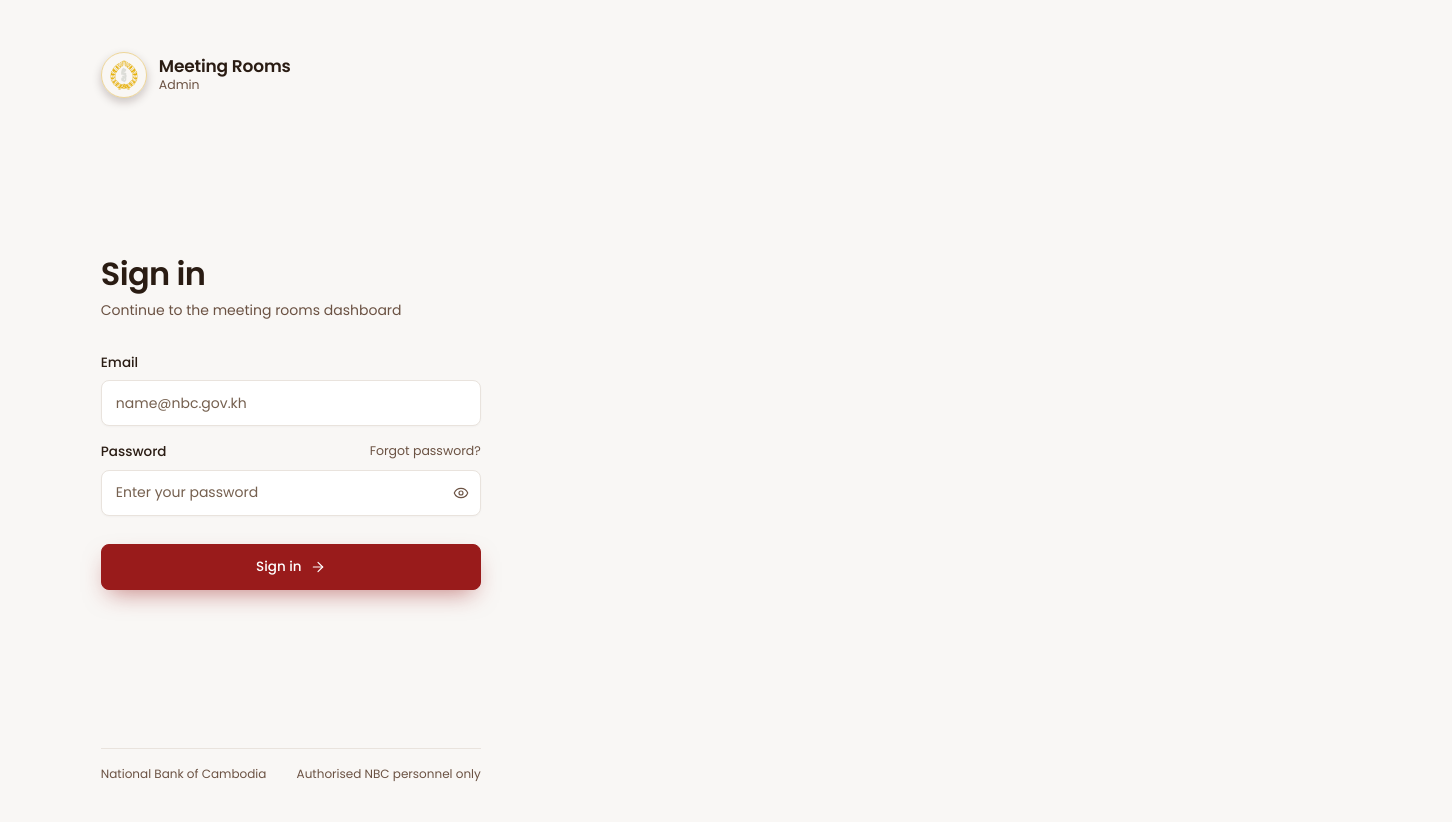
it: SignInView › shows the API message on wrong credentials and keeps the email
Type "admin@company.com" into the field with id "email" at (291, 403), box [101, 380, 481, 426]
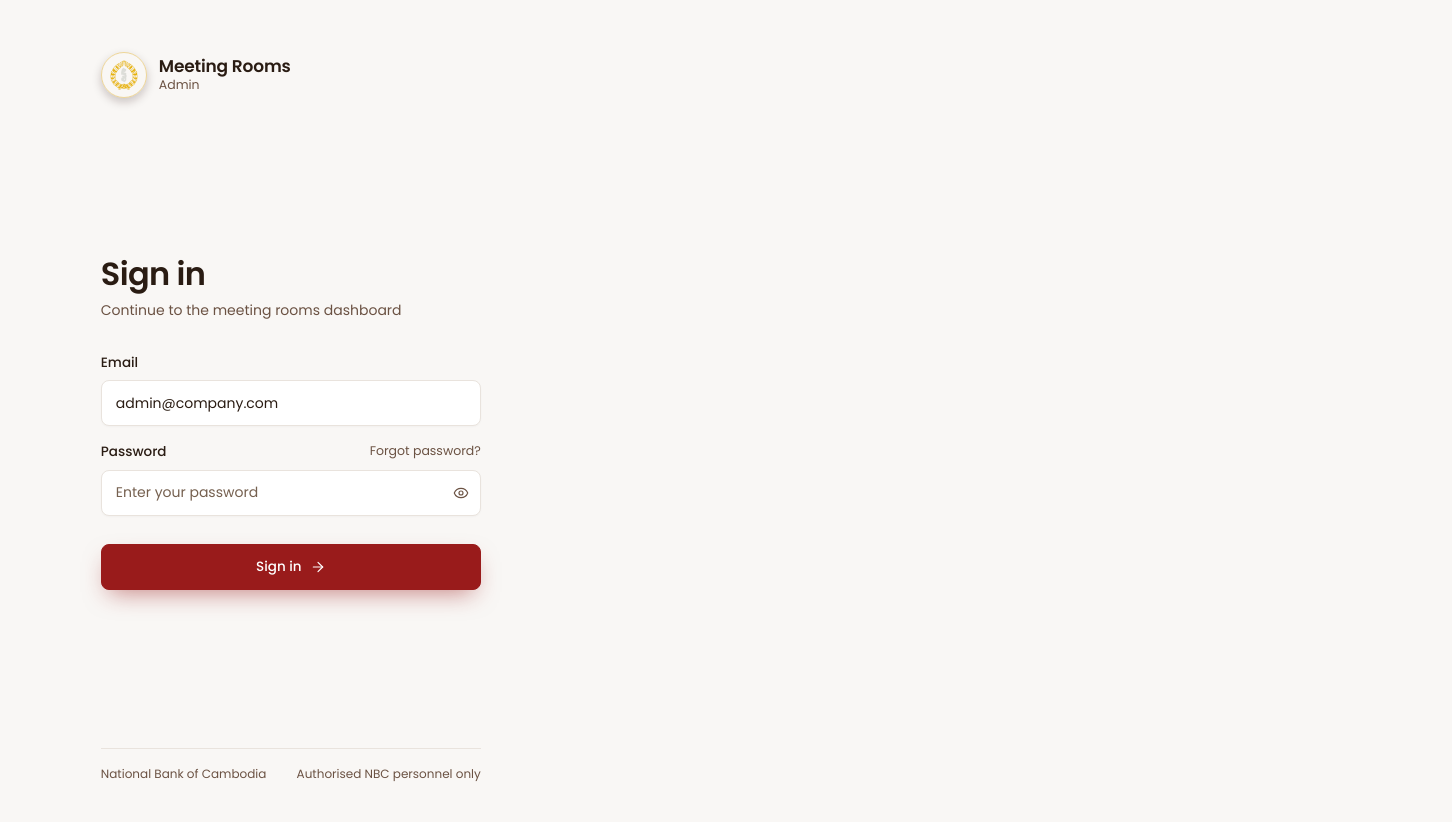
Type "bad" into the password field labelled "Password" at (291, 493), box [101, 470, 481, 516]
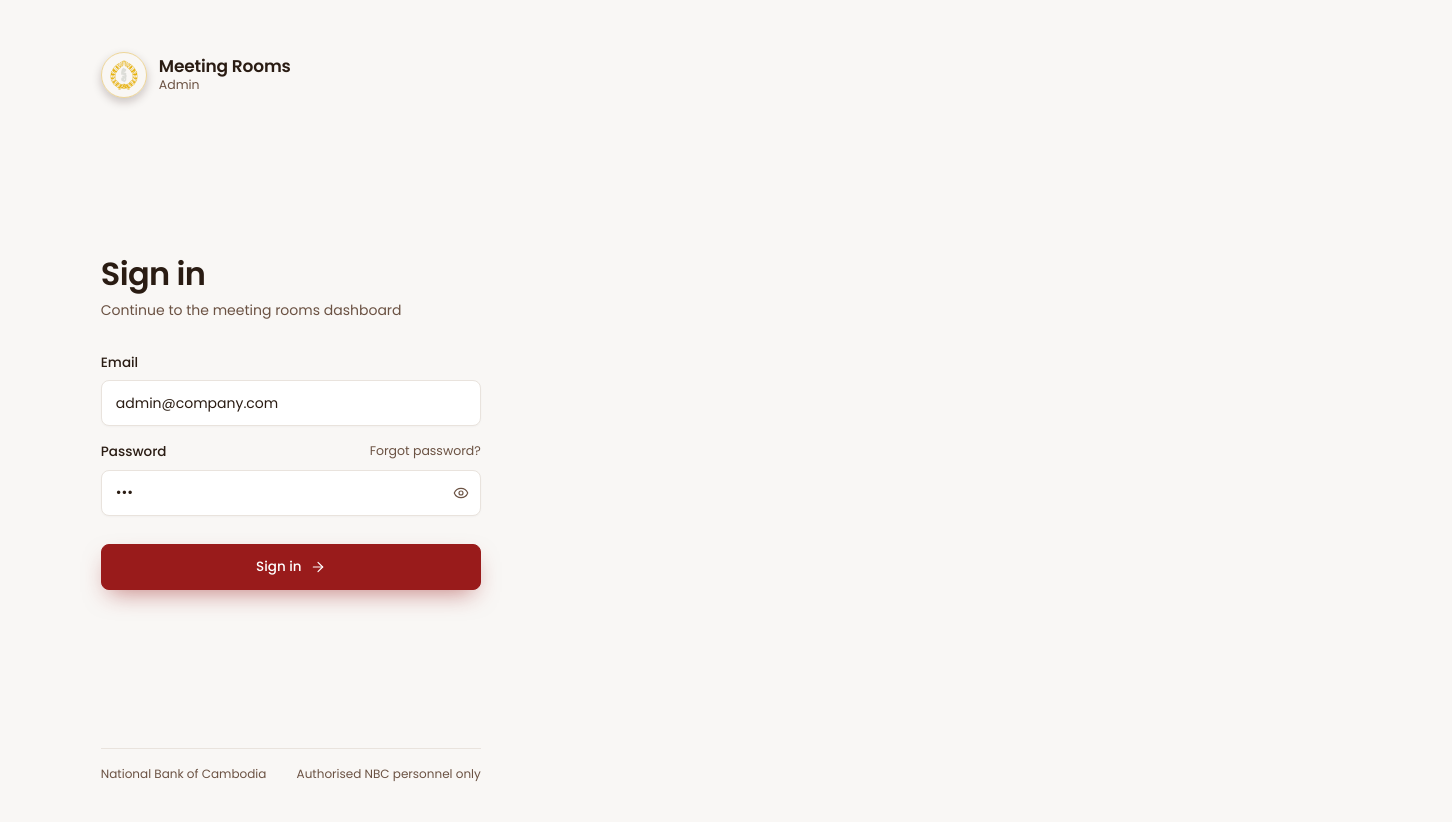
Submit the form, box [101, 353, 481, 590]
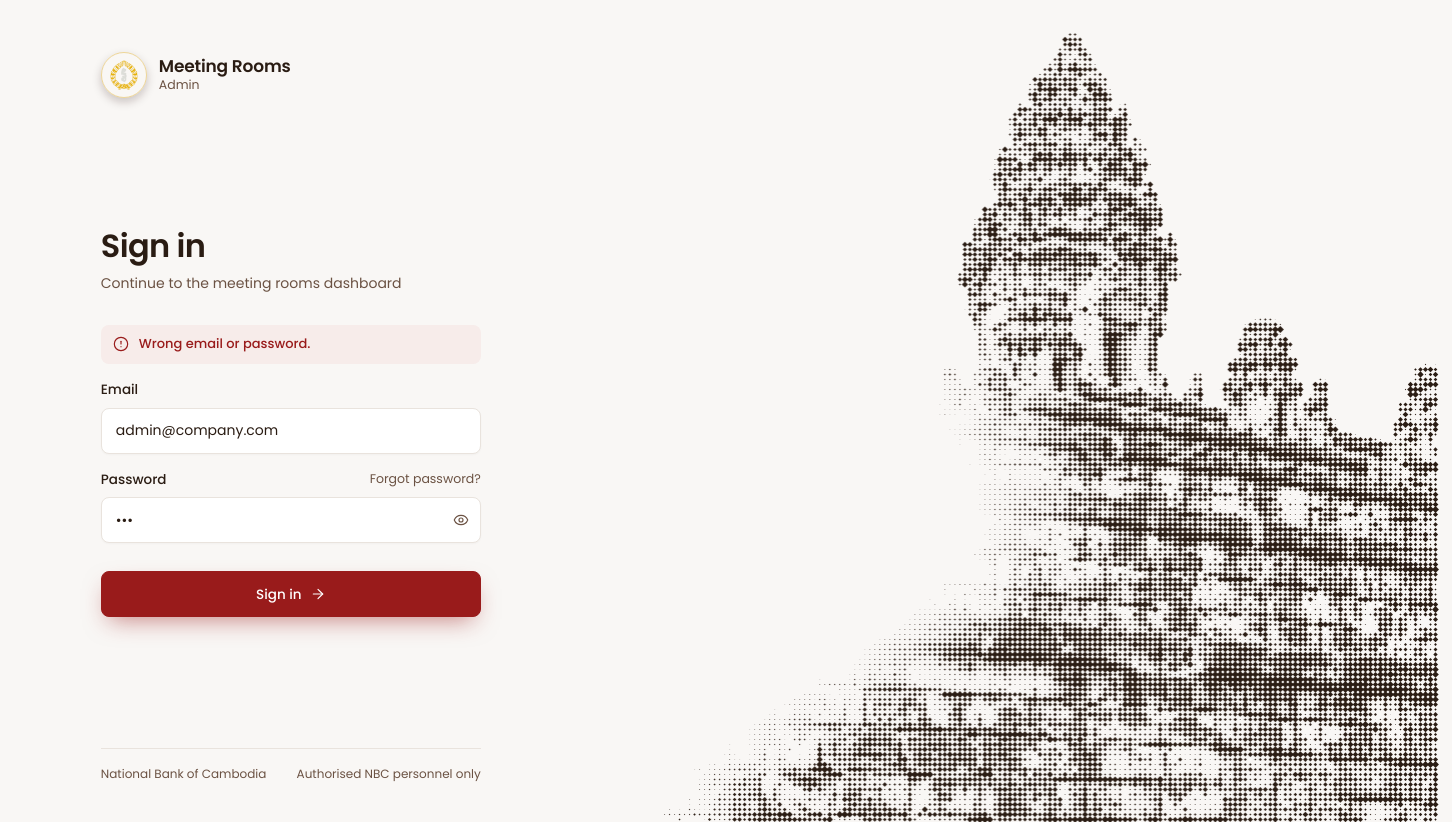
expect the message "Wrong email or password." is shown: met, box [101, 325, 481, 364]
